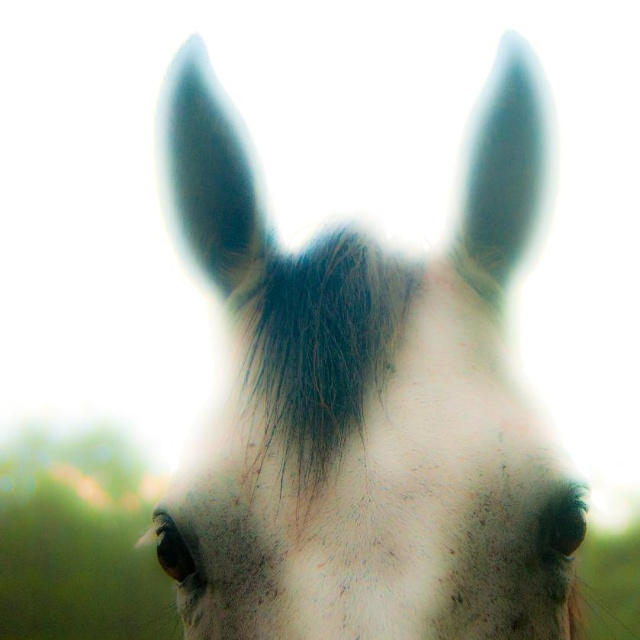Horse: (131, 30, 639, 640)
